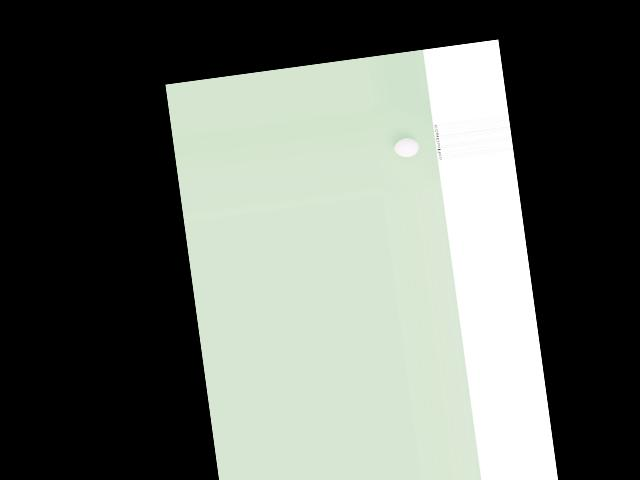egg: (393, 137, 420, 158)
